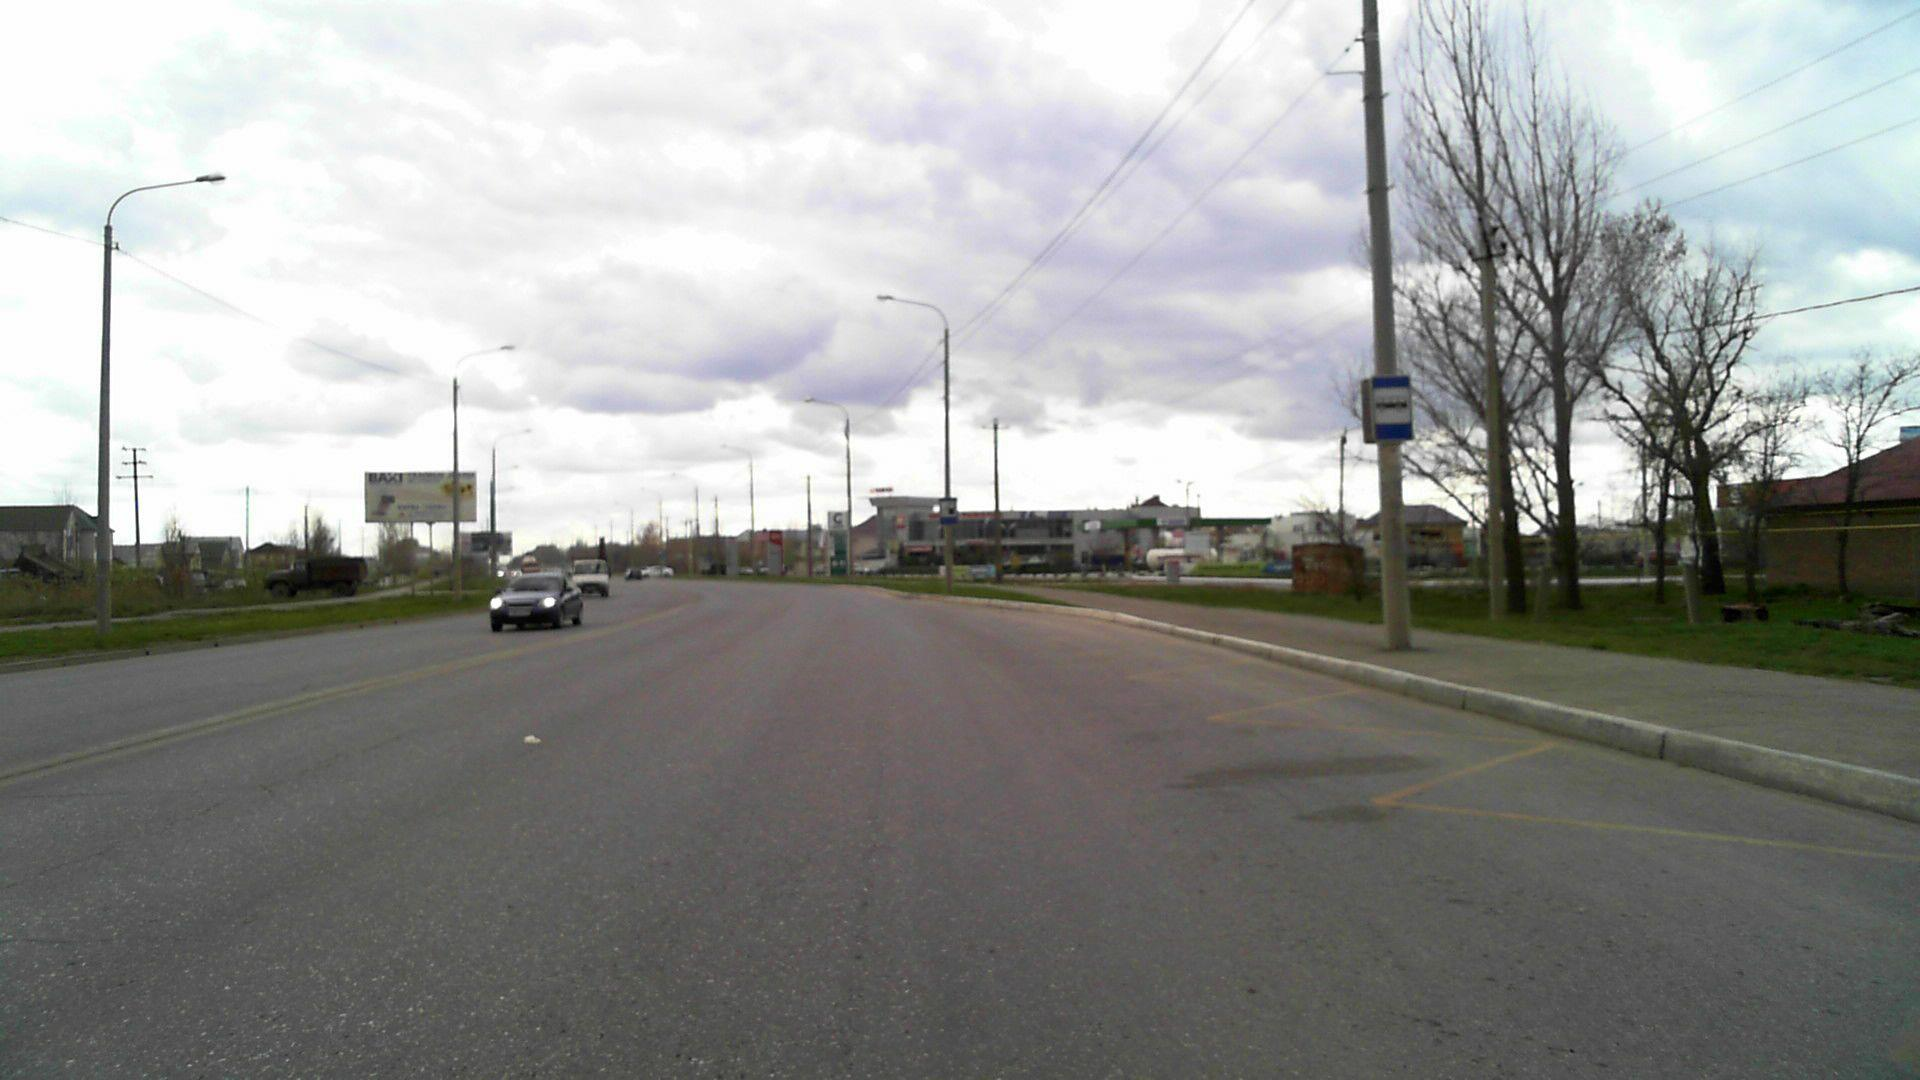5_16: (1362, 373, 1420, 442)
7_3: (939, 496, 957, 524)
